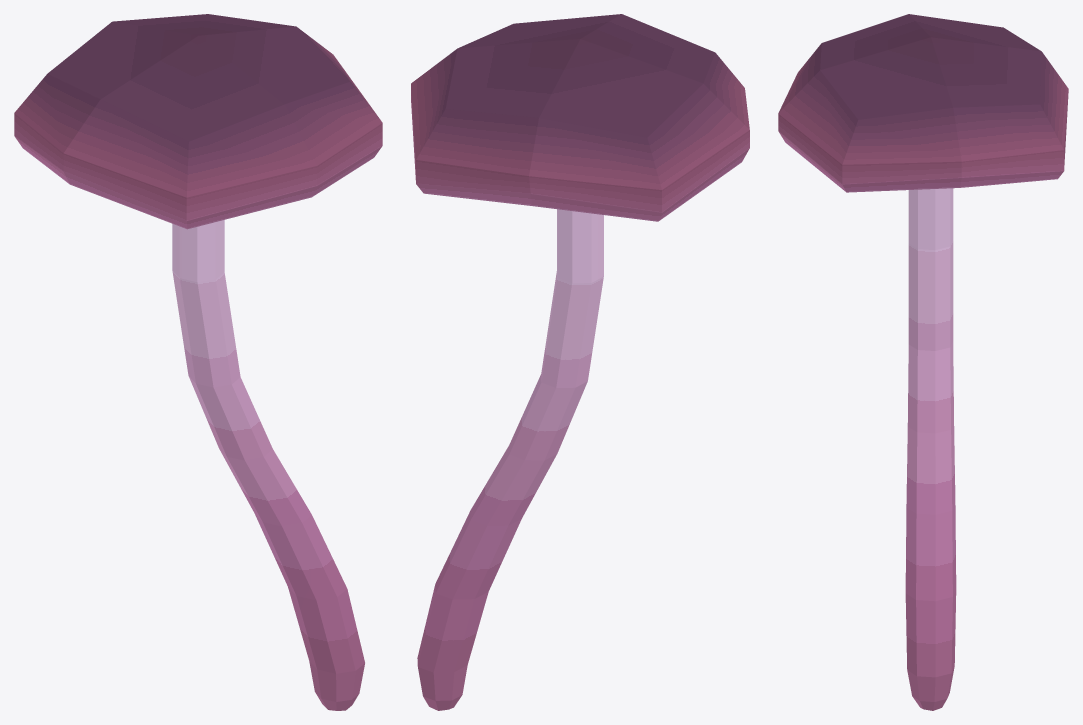
File: Amethyst_large.glb
The picture shows the model from 3 angles, left to right: view 1: azimuth 30°, elevation 25°; view 2: azimuth 150°, elevation 25°; view 3: azimuth 270°, elevation 25°; orthographic projection. The views are drawn at different scales.
Parts seen in each view (by area): view 1: Amethyst_Large; view 2: Amethyst_Large; view 3: Amethyst_Large.
Part boxes in pixels (x1=…): Amethyst_Large: x1=14, y1=14, x2=382, y2=710; Amethyst_Large: x1=411, y1=14, x2=749, y2=710; Amethyst_Large: x1=778, y1=14, x2=1068, y2=710.
Size of the model in its own units: 0.8423 by 1.81 by 0.7788.
1 material, 1 textured.
